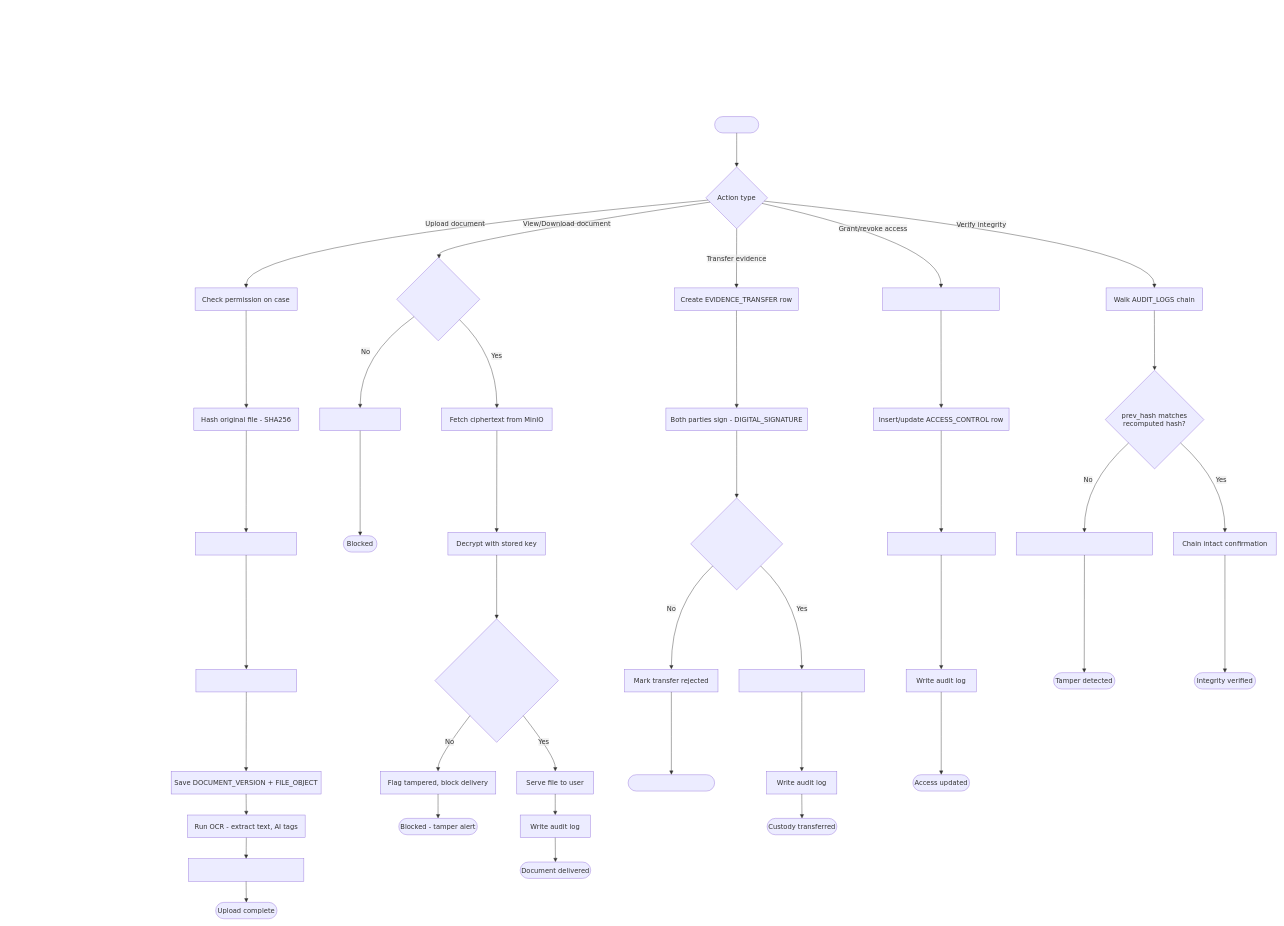
The diagram is 1284 pixels wide and 926 high, and some of its shapes have lost their labels. The shapes that lost their labels are listed below. From the top down, each one's centre as x and y in pixels, then its label:
At [736,124]: "User action".
At [438,299]: "Access allowed?".
At [940,299]: "Admin selects user + case/doc".
At [359,419]: "Log access_denied".
At [246,543]: "Encrypt file - AES256GCM".
At [736,543]: "Receiver accepts?".
At [941,543]: "Set expires_at if temporary".
At [1084,543]: "Report break point - user, timestamp".
At [246,680]: "Store ciphertext in MinIO".
At [496,680]: "Hash matches file_hash?".
At [802,680]: "Update EVIDENCE.current_holder".
At [671,782]: "Transfer rejected, logged".
At [246,869]: "Write audit log - chained hash".
